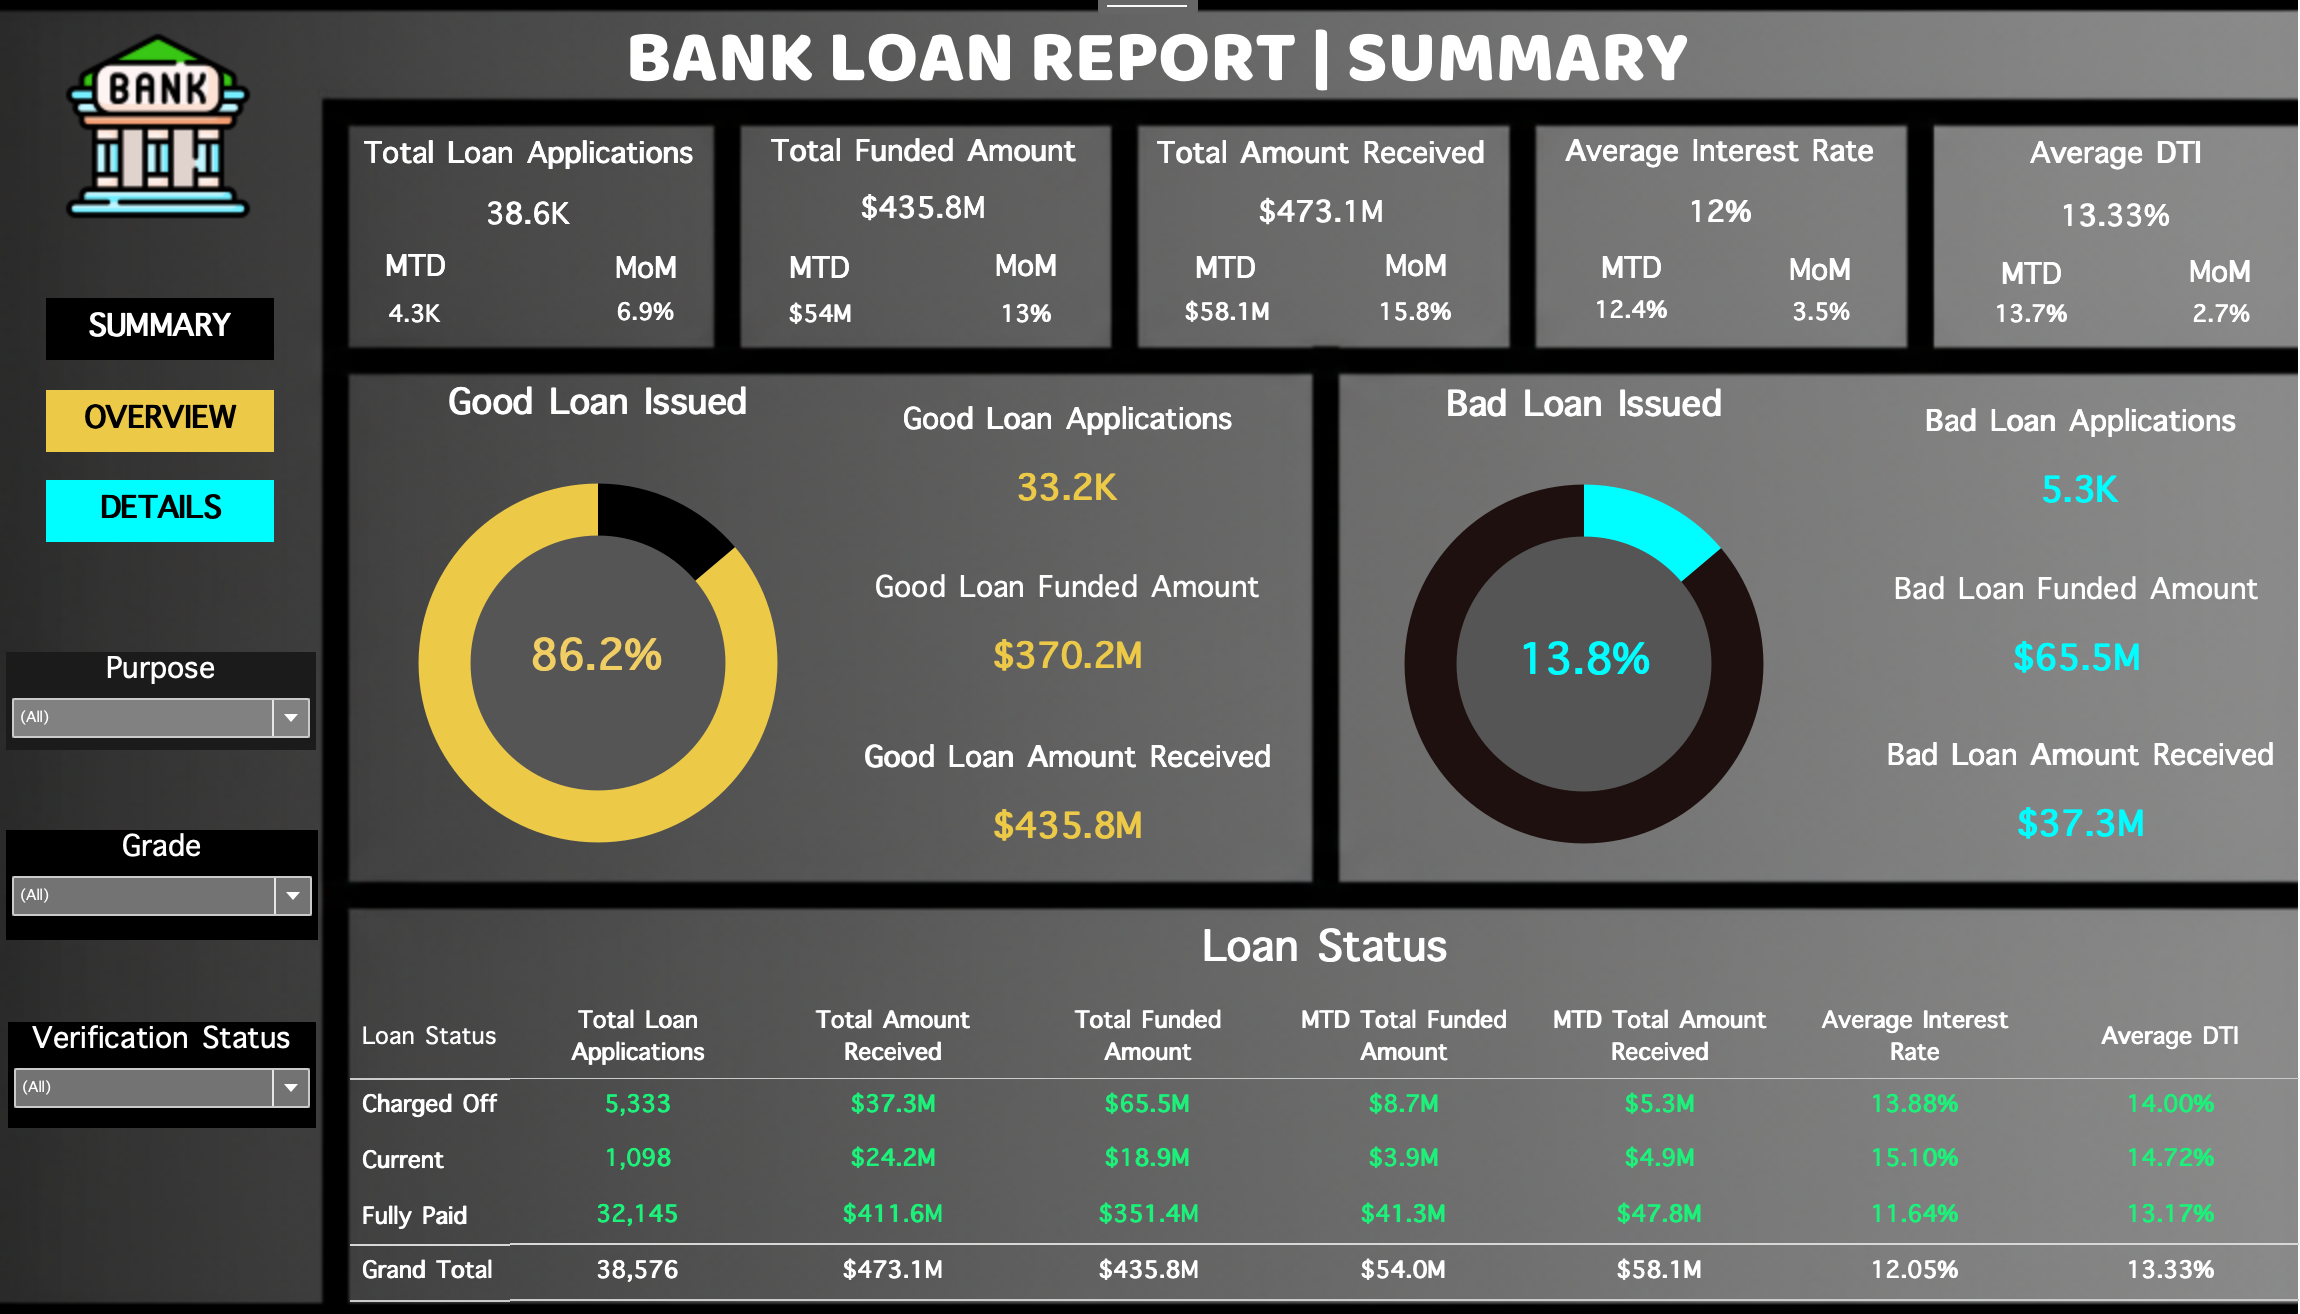

The dashboard page shown, as its layout file describes it:
{"tool":"tableau","page":{"name":"SUMMARY","canvas":[1000,1000],"units":"permille","ordinal":2},"visuals":[{"type":"image","param":"Image/generated-image (2).png","box":[6.4,11.8,987.3,976.5]},{"type":"text","box":[247,27.9,512.3,64.6]},{"type":"image","param":"Image/bank_6502782.png","box":[62,41.1,89.8,138]},{"type":"worksheet","title":"Total Funded Amount","mark":"Automatic","box":[337.6,110.1,146.2,76.4]},{"type":"worksheet","title":"Average Interest Rate","mark":"Automatic","box":[653.5,110.1,145.9,80.8]},{"type":"worksheet","title":"Total Loan Applications","mark":"Automatic","box":[182.7,111.6,142.2,80.8]},{"type":"worksheet","title":"Total Amount Received","mark":"Automatic","box":[495.6,111.6,145.3,77.8]},{"type":"worksheet","title":"Average DTI","mark":"Automatic","box":[812.1,111.6,144.3,85.2]},{"type":"text","box":[185.9,195.3,46.1,39.6]},{"type":"text","box":[428.1,195.3,46.1,39.6]},{"type":"text","box":[583,195.3,46.1,39.6]},{"type":"text","box":[277.2,196.8,46.1,39.6]},{"type":"text","box":[346.3,196.8,46.1,39.6]},{"type":"text","box":[507.6,196.8,46.1,39.6]},{"type":"text","box":[668.5,196.8,46,39.6]},{"type":"text","box":[743.1,198.2,46,39.6]},{"type":"text","box":[902.5,199.7,46,39.6]},{"type":"text","box":[827.9,201.2,46,39.6]},{"type":"worksheet","title":"MTD Average Interest Rate","mark":"Automatic","box":[670.1,227.6,42,38.2]},{"type":"worksheet","title":"MTD Total Amount Received","mark":"Automatic","box":[503.6,229.1,54.8,38.2]},{"type":"worksheet","title":"MTD Total Funded Amount","mark":"Automatic","box":[349.5,230.5,40.5,38.2]},{"type":"worksheet","title":"MTD Total Loan Applications","mark":"Automatic","box":[184.3,232,49.2,35.2]},{"type":"worksheet","title":"MoM Loan Applications","mark":"Automatic","box":[282,232,35.7,33.8]},{"type":"worksheet","title":"MoM Total Funded Amount","mark":"Automatic","box":[431.3,232,39.7,35.2]},{"type":"worksheet","title":"MoM Total Amount Received","mark":"Automatic","box":[583,232,46.1,33.8]},{"type":"worksheet","title":"MoM Average Interest Rate","mark":"Automatic","box":[740.7,232,51.6,33.8]},{"type":"worksheet","title":"MoM Average DTI","mark":"Automatic","box":[903.2,233.5,46,32.3]},{"type":"worksheet","title":"MTD Average DTI","mark":"Automatic","box":[828.7,235,43.6,29.4]},{"type":"dashboard-object","box":[62,236.4,90.5,45.5]},{"type":"worksheet","title":"Good Loan Issued","mark":"Pie","rows":["Calculation_3757902102591479809","Calculation_3757902102591479809"],"box":[181.9,292.2,198.6,370]},{"type":"worksheet","title":"Bad Loan Issued","mark":"Pie","rows":["Calculation_3757902102591479809","Calculation_3757902102591479809"],"box":[574.8,293.7,195.5,368.6]},{"type":"worksheet","title":"Good Loan Applications","mark":"Automatic","box":[374.9,301,185.9,105.7]},{"type":"worksheet","title":"Bad Loan Applications","mark":"Automatic","box":[763.7,302.5,212.2,105.7]},{"type":"dashboard-object","box":[62,304,90.5,45.5]},{"type":"dashboard-object","box":[62,370,90.5,45.5]},{"type":"worksheet","title":"Good Loan Funded Amount","mark":"Automatic","box":[374.9,424.4,185.9,105.7]},{"type":"worksheet","title":"Bad Loan Funded Amount","mark":"Automatic","box":[762.9,425.8,212.2,105.7]},{"type":"worksheet","title":"Good Loan Application %","mark":"Automatic","box":[244.6,436.1,72.3,132.2]},{"type":"worksheet","title":"Bad Loan Application %","mark":"Automatic","box":[636.4,436.1,74,138]},{"type":"filter","title":"Good Loan Issued","param":"[federated.1kewwyl1bnugki18qmdj51btraj1].[none:purpose:nk]","box":[46.1,496.3,123.1,72]},{"type":"worksheet","title":"Bad Loan Amount Received","mark":"Automatic","box":[763.7,547.7,212.2,105.7]},{"type":"worksheet","title":"Good Loan Amount Received","mark":"Automatic","box":[374.9,549.2,185.9,105.7]},{"type":"filter","title":"Good Loan Issued","param":"[federated.1kewwyl1bnugki18qmdj51btraj1].[none:grade:nk]","box":[46.1,627,123.9,80.8]},{"type":"worksheet","title":"Loan Status","mark":"Automatic","rows":["loan_status"],"box":[182.7,688.7,774.4,284.9]},{"type":"filter","title":"Good Loan Issued","param":"[federated.1kewwyl1bnugki18qmdj51btraj1].[none:verification_status:nk]","box":[46.9,768,122.3,77.8]}]}

Visuals, with their boxes on the dashboard's canvas, which has no fixed pixel size, in thousandths of its width and height (x1, y1, x2, y2). These are canvas units, not pixel positions in the 2300x1314 screenshot, which may show the page scaled, cropped or inside an application window:
image: BBox(6, 12, 994, 988)
text: BBox(247, 28, 759, 92)
image: BBox(62, 41, 152, 179)
"Total Funded Amount" worksheet: BBox(338, 110, 484, 186)
"Average Interest Rate" worksheet: BBox(654, 110, 799, 191)
"Total Loan Applications" worksheet: BBox(183, 112, 325, 192)
"Total Amount Received" worksheet: BBox(496, 112, 641, 189)
"Average DTI" worksheet: BBox(812, 112, 956, 197)
text: BBox(186, 195, 232, 235)
text: BBox(428, 195, 474, 235)
text: BBox(583, 195, 629, 235)
text: BBox(277, 197, 323, 236)
text: BBox(346, 197, 392, 236)
text: BBox(508, 197, 554, 236)
text: BBox(668, 197, 714, 236)
text: BBox(743, 198, 789, 238)
text: BBox(902, 200, 948, 239)
text: BBox(828, 201, 874, 241)
"MTD Average Interest Rate" worksheet: BBox(670, 228, 712, 266)
"MTD Total Amount Received" worksheet: BBox(504, 229, 558, 267)
"MTD Total Funded Amount" worksheet: BBox(350, 230, 390, 269)
"MTD Total Loan Applications" worksheet: BBox(184, 232, 234, 267)
"MoM Loan Applications" worksheet: BBox(282, 232, 318, 266)
"MoM Total Funded Amount" worksheet: BBox(431, 232, 471, 267)
"MoM Total Amount Received" worksheet: BBox(583, 232, 629, 266)
"MoM Average Interest Rate" worksheet: BBox(741, 232, 792, 266)
"MoM Average DTI" worksheet: BBox(903, 234, 949, 266)
"MTD Average DTI" worksheet: BBox(829, 235, 872, 264)
dashboard-object: BBox(62, 236, 152, 282)
"Good Loan Issued" worksheet (Pie marks): BBox(182, 292, 380, 662)
"Bad Loan Issued" worksheet (Pie marks): BBox(575, 294, 770, 662)
"Good Loan Applications" worksheet: BBox(375, 301, 561, 407)
"Bad Loan Applications" worksheet: BBox(764, 302, 976, 408)
dashboard-object: BBox(62, 304, 152, 350)
dashboard-object: BBox(62, 370, 152, 416)
"Good Loan Funded Amount" worksheet: BBox(375, 424, 561, 530)
"Bad Loan Funded Amount" worksheet: BBox(763, 426, 975, 532)
"Good Loan Application %" worksheet: BBox(245, 436, 317, 568)
"Bad Loan Application %" worksheet: BBox(636, 436, 710, 574)
"Good Loan Issued" filter: BBox(46, 496, 169, 568)
"Bad Loan Amount Received" worksheet: BBox(764, 548, 976, 653)
"Good Loan Amount Received" worksheet: BBox(375, 549, 561, 655)
"Good Loan Issued" filter: BBox(46, 627, 170, 708)
"Loan Status" worksheet: BBox(183, 689, 957, 974)
"Good Loan Issued" filter: BBox(47, 768, 169, 846)
